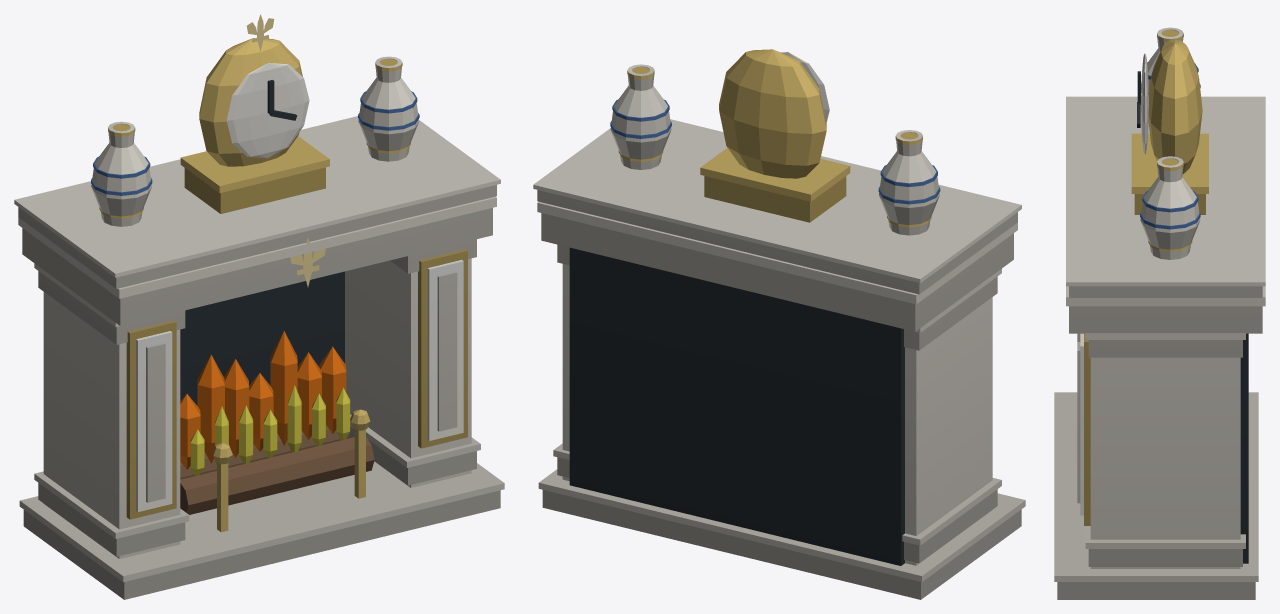
Rendered from palace_fireplace.glb.
The picture shows the model from 3 angles, left to right: view 1: azimuth 30°, elevation 25°; view 2: azimuth 150°, elevation 25°; view 3: azimuth 270°, elevation 25°; orthographic projection.
Visible parts, largest first — view 1: palace_fireplace; view 2: palace_fireplace; view 3: palace_fireplace.
Part boxes in pixels (x1,y1,x2,y2): palace_fireplace: (14,14,504,599); palace_fireplace: (533,49,1025,599); palace_fireplace: (1054,27,1265,599).
Bounding box in the file's own units: 1.9 × 2.37 × 0.915.
